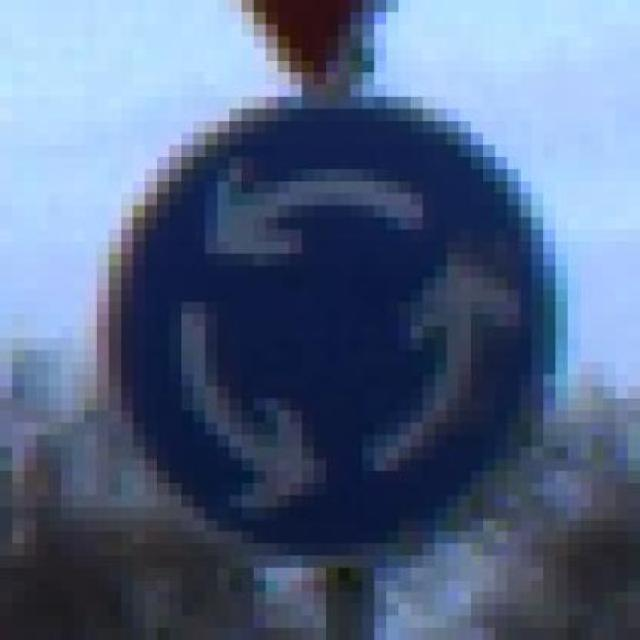Round-About: (72, 96, 616, 592)
